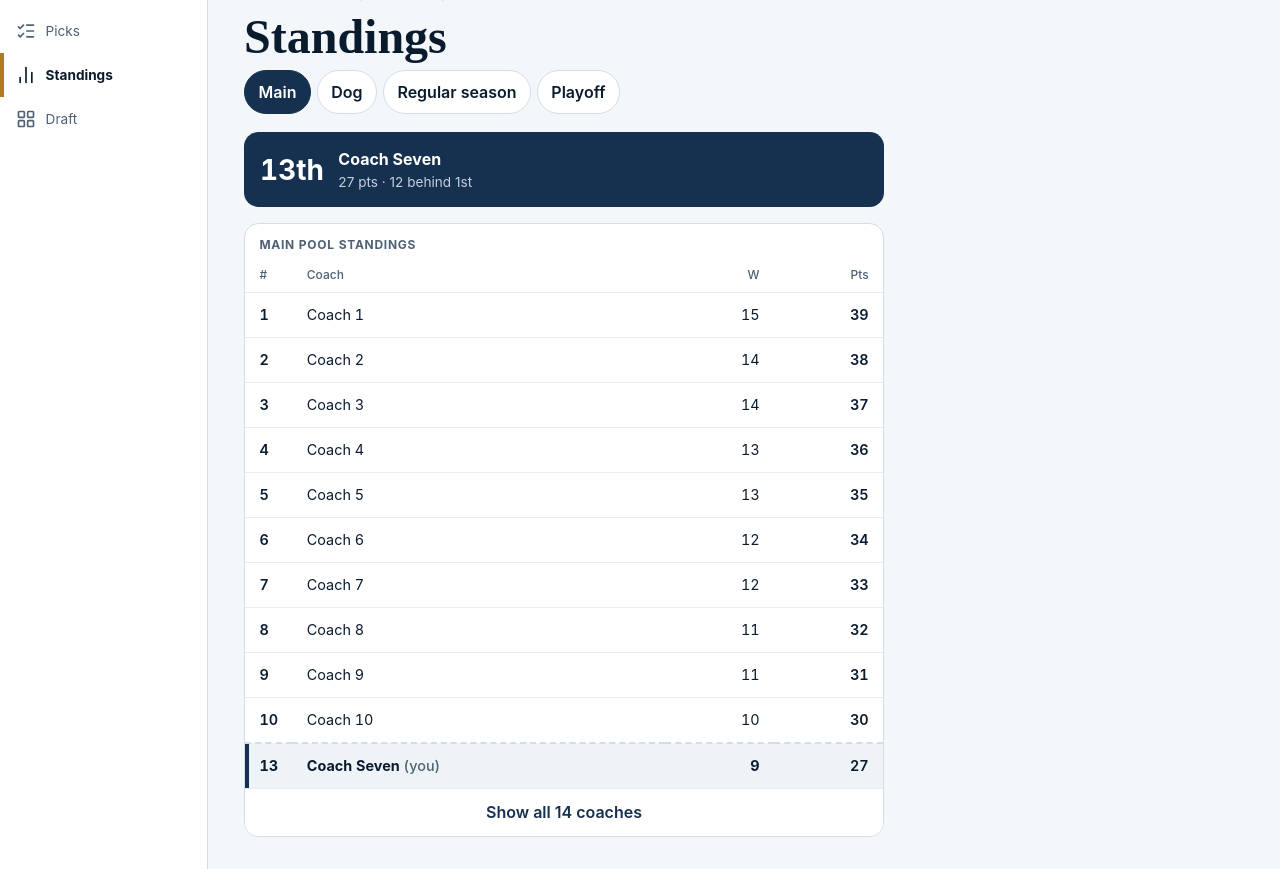
Test: show all lists every coach, and your row stays visible when you are outside the top ten
(page scrolled)
Expected: the table "pool standings" is shown, [245,224,883,788]
Click the button "Show all 14 coaches": point(564, 812) [245,788,883,836]
(page scrolled)
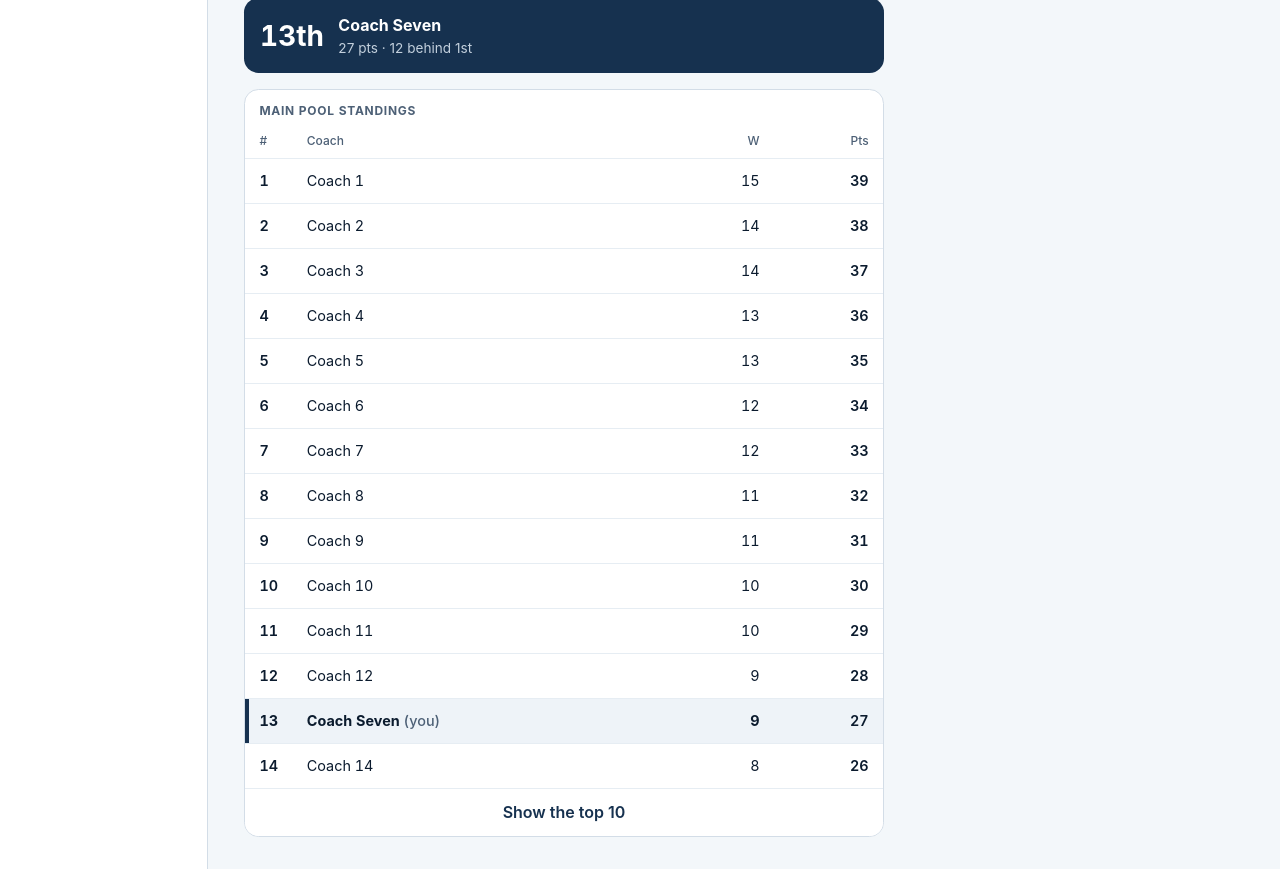
Now the button "Show the top 10" is expanded, box [245,788,883,836]
